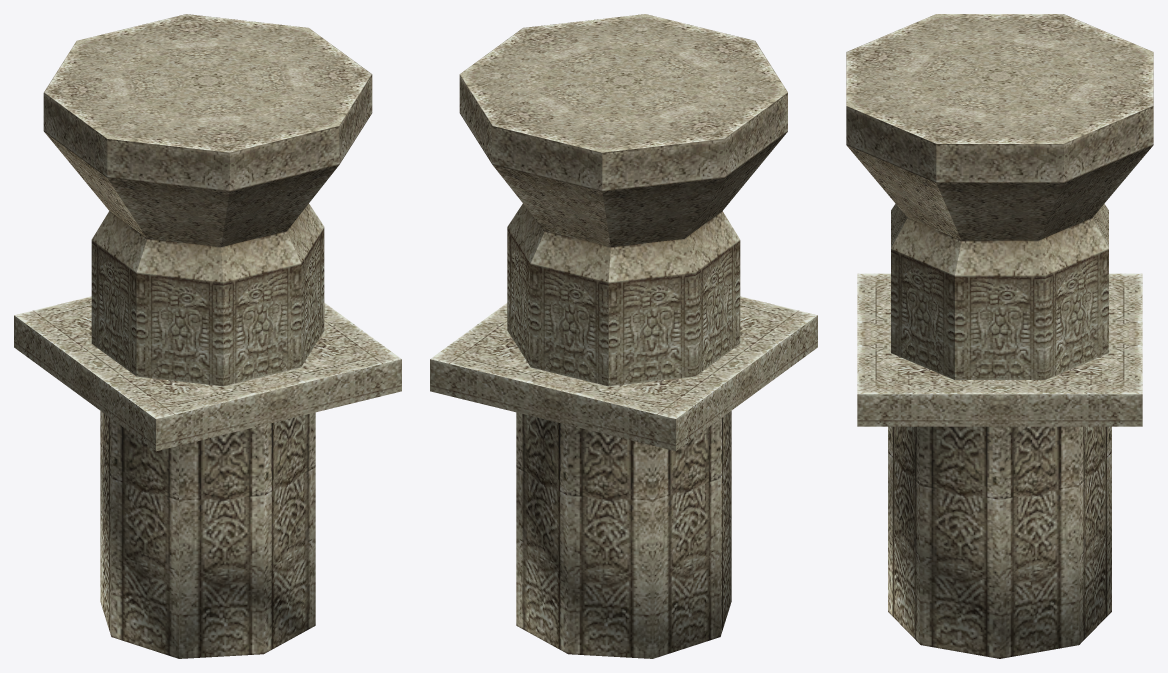
The model's file is general_obj_bigtoewr07.fbx.
The picture shows the model from 3 angles, left to right: view 1: azimuth 30°, elevation 25°; view 2: azimuth 150°, elevation 25°; view 3: azimuth 270°, elevation 25°; orthographic projection.
Parts seen in each view (by area): view 1: Sphere01; view 2: Sphere01; view 3: Sphere01.
Part boxes in pixels (box(x1,y1,x2,y2)): Sphere01: box(14, 14, 401, 658); Sphere01: box(430, 14, 817, 658); Sphere01: box(846, 14, 1153, 658).
Bounding box in the file's own units: 4.31 × 8.28 × 4.31.
